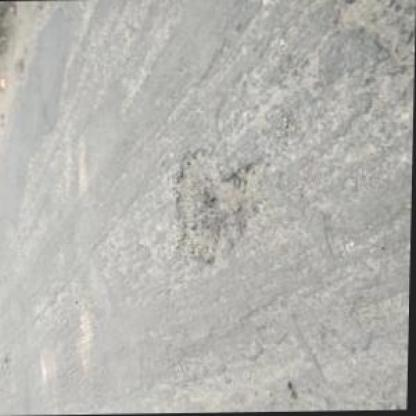pothole: (169, 146, 269, 266)
